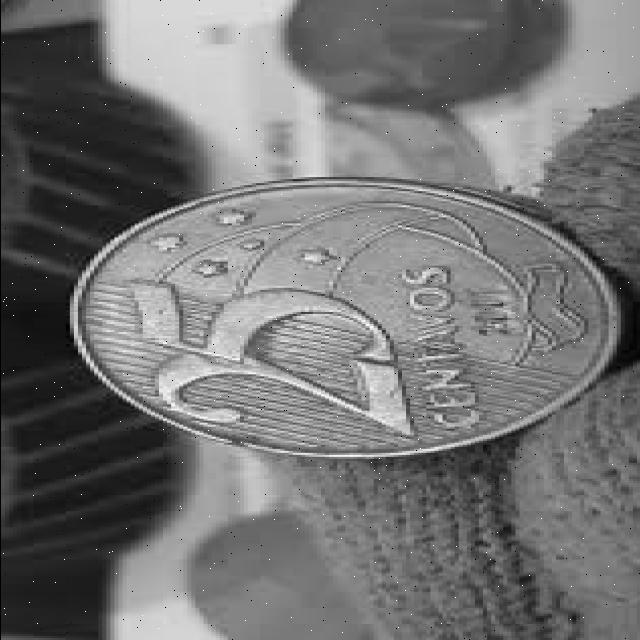25 cent: (68, 182, 616, 456)
